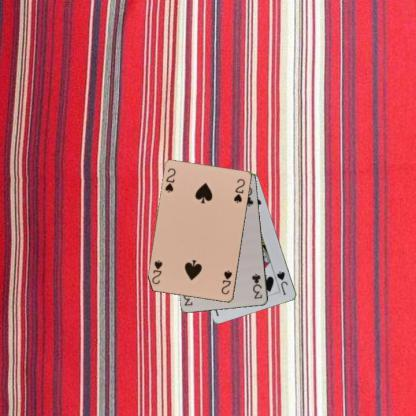2s: (219, 267, 233, 296), (163, 166, 177, 194)
3c: (249, 271, 263, 300)
Js: (274, 269, 290, 296)
